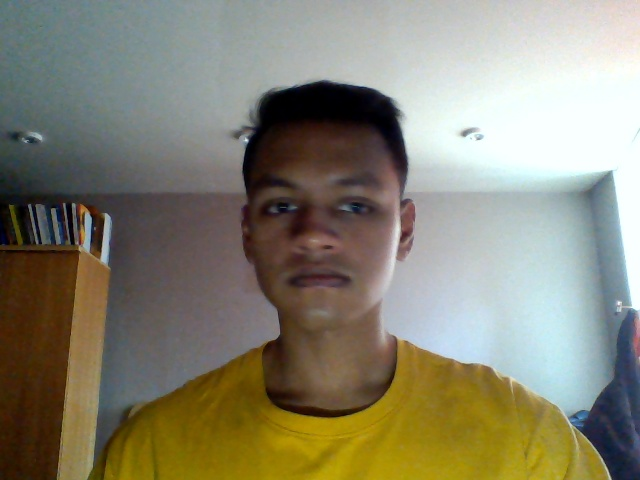no_mask: (242, 225, 405, 326)
